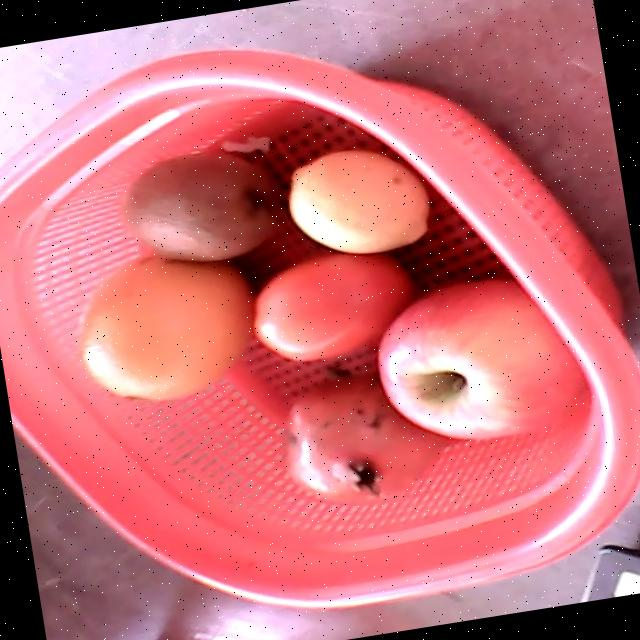apple: (377, 277, 586, 440)
kiwi: (120, 153, 283, 261)
lemon: (288, 150, 429, 253)
orange: (81, 253, 253, 401)
pomegranate: (285, 375, 446, 505)
tomato: (254, 252, 412, 361)
